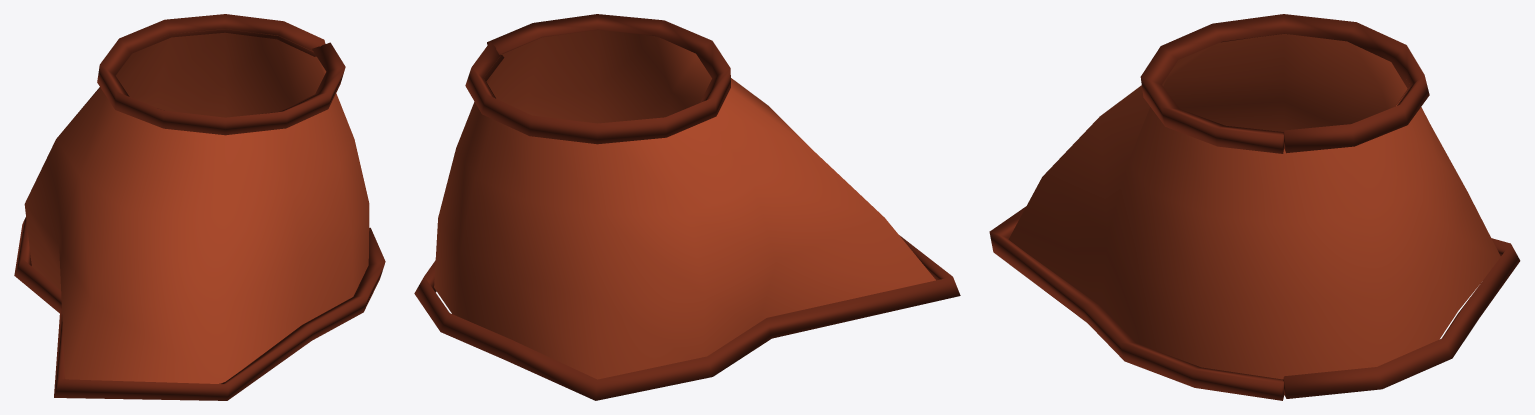
Rendered from meteor_armor_pauldron.R.glb.
3 views of the same model, side by side, from view 1: azimuth 30°, elevation 25°; view 2: azimuth 150°, elevation 25°; view 3: azimuth 270°, elevation 25° (orthographic). The views are drawn at different scales.
Parts seen in each view (by area): view 1: meteor_armor_pauldron.R; view 2: meteor_armor_pauldron.R; view 3: meteor_armor_pauldron.R.
Boxes of the visible parts, x1,y1,x2,y2 form: meteor_armor_pauldron.R: (14, 14, 385, 400); meteor_armor_pauldron.R: (414, 14, 960, 400); meteor_armor_pauldron.R: (989, 14, 1520, 400).
Bounding box in the file's own units: 0.3204 × 0.1646 × 0.3194.
